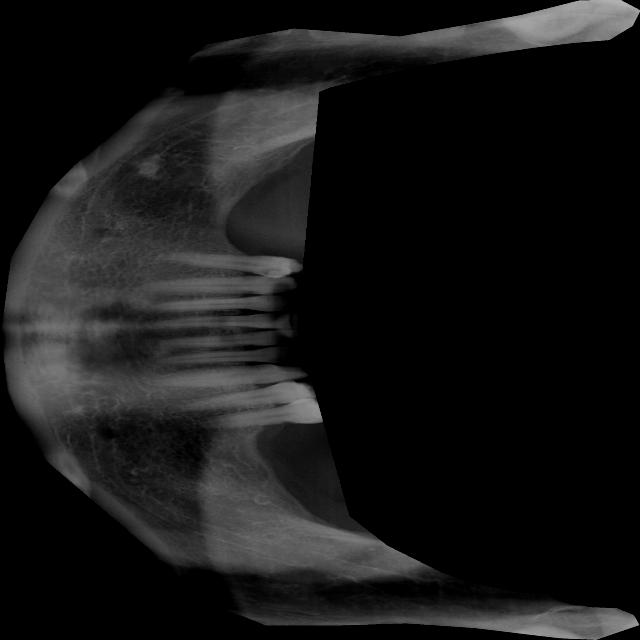mandibula: (0, 0, 640, 640)
